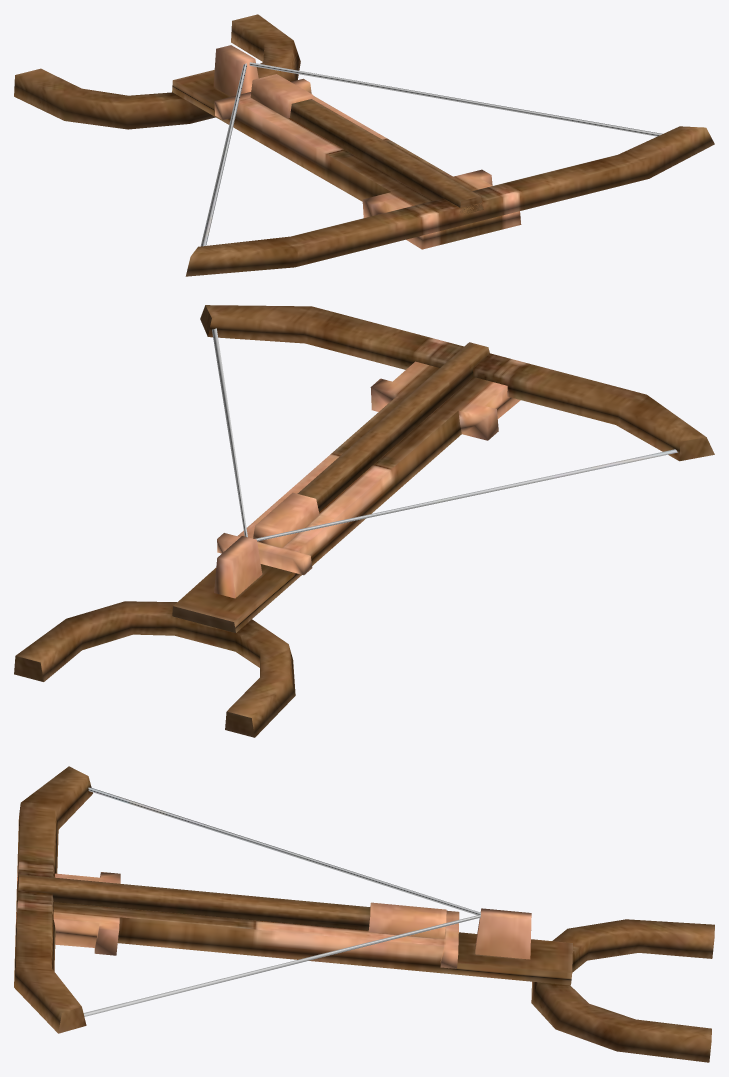
File: weapon-base.glb
The picture shows the model from 3 angles, top to bottom: view 1: azimuth 30°, elevation 25°; view 2: azimuth 150°, elevation 25°; view 3: azimuth 270°, elevation 25°; orthographic projection. The views are drawn at different scales.
Bounding box in the file's own units: 0.9364 × 0.205 × 1.07.
1 material, 1 textured.
